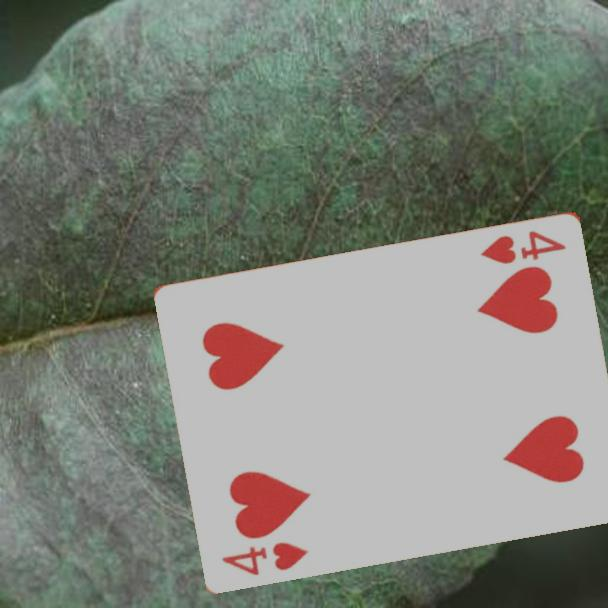h04: (477, 226, 570, 266), (219, 538, 312, 578)
